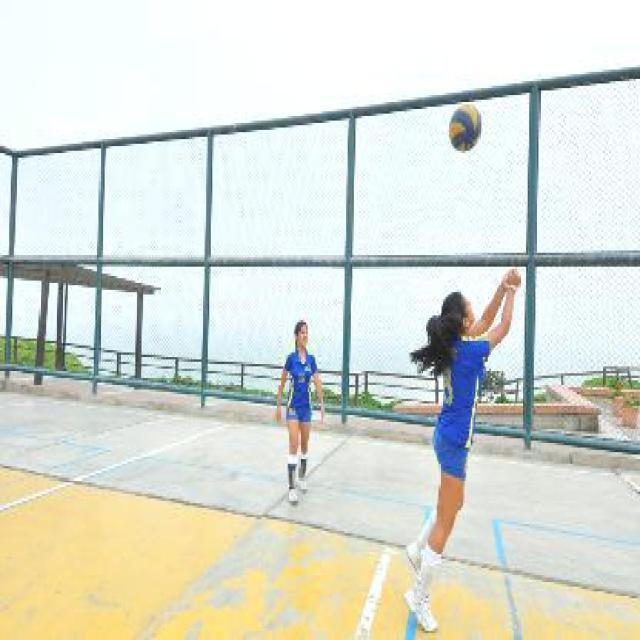volleyball: (449, 105, 483, 152)
